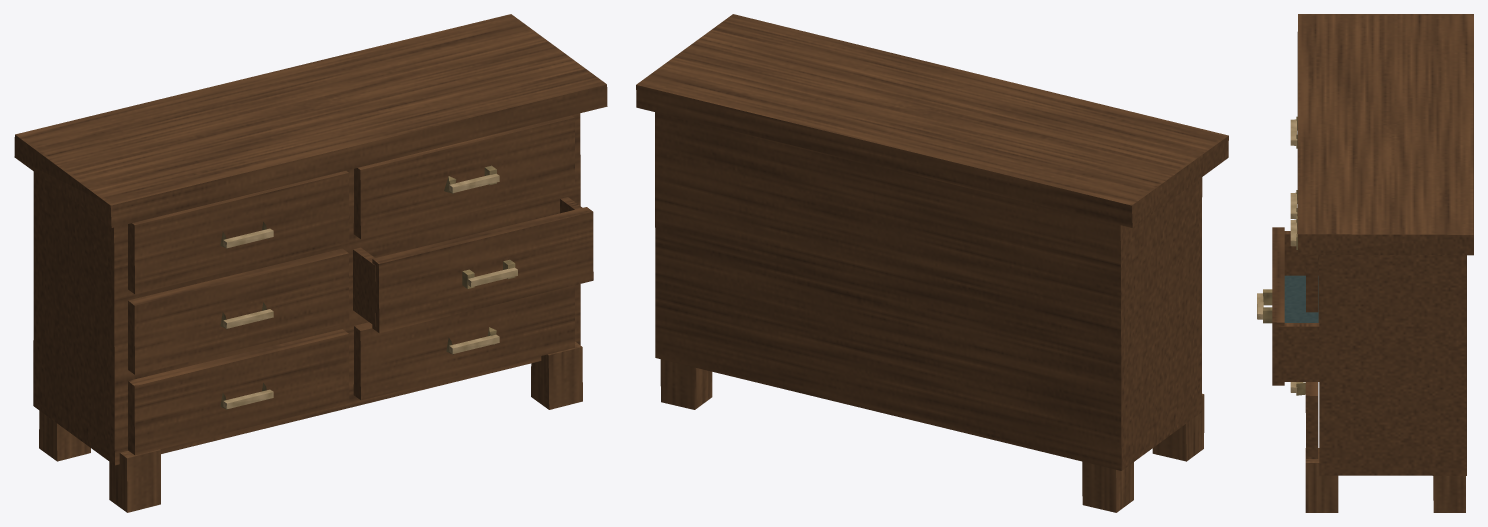
Rendered from PartsCabinet_LOD2.fbx.
3 renders of one model, left to right at view 1: azimuth 30°, elevation 25°; view 2: azimuth 150°, elevation 25°; view 3: azimuth 270°, elevation 25°, orthographic. The views are drawn at different scales.
Visible parts, largest first — view 1: PartsCabinet.001; view 2: PartsCabinet.001; view 3: PartsCabinet.001.
Boxes of the visible parts, <box> form: PartsCabinet.001: <box>14,14,607,512</box>; PartsCabinet.001: <box>636,14,1228,512</box>; PartsCabinet.001: <box>1257,14,1473,512</box>.
Size of the model in its own units: 1.32 by 0.8041 by 0.5495.
Materials: 1 (1 with a texture image).
